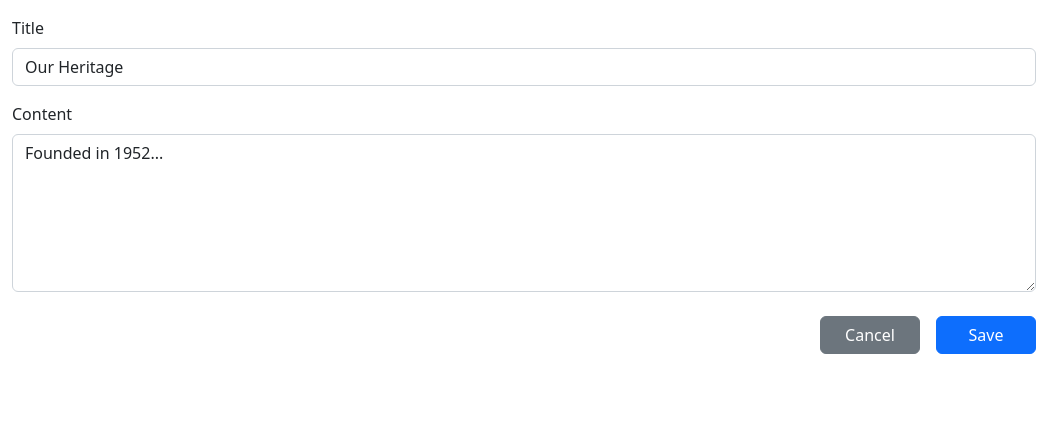
FamilyHistoryForm › should show validation error when title is empty
Clear the field labelled "Title" at coordinates (524, 67), box [12,48,1036,86]
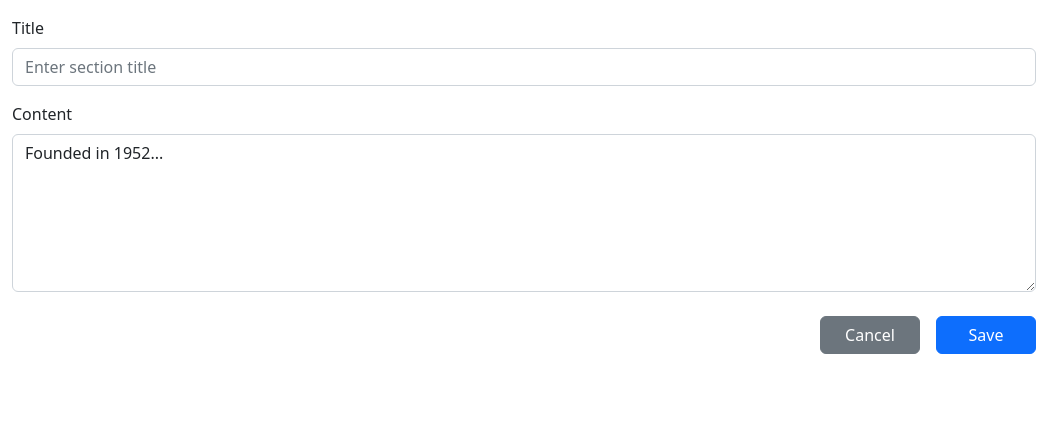
Click the button "Save".
click(986, 335)  # box [936,316,1036,354]
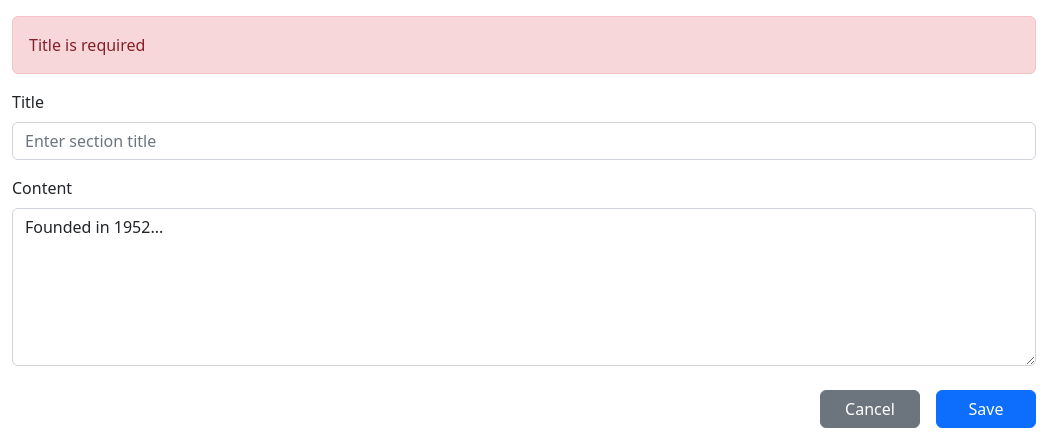
Check: the text "Title is required" is shown, box [12,16,1036,74]
